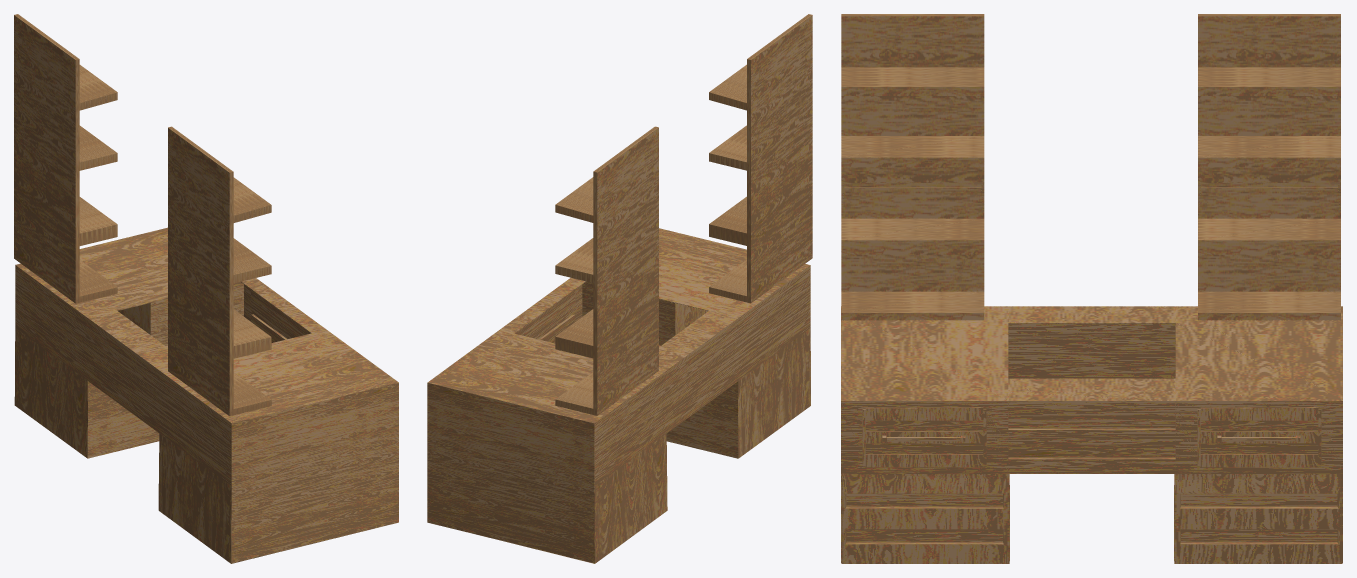
File: Regalon.fbx
3 views of the same model, side by side, from view 1: azimuth 30°, elevation 25°; view 2: azimuth 150°, elevation 25°; view 3: azimuth 270°, elevation 25° (orthographic). The views are drawn at different scales.
Visible parts, largest first — view 1: Mueble, Cube.001, Cube.002; view 2: Mueble, Cube.002, Cube.001; view 3: Mueble, Cube.002, Cube.001, Cajon, Cajon.001.
Boxes of the visible parts, box(x1,y1,x2,y2) form: Mueble: box(14, 227, 398, 563); Cube.001: box(14, 14, 117, 303); Cube.002: box(168, 126, 271, 416); Mueble: box(427, 228, 810, 563); Cube.002: box(709, 14, 812, 303); Cube.001: box(555, 126, 658, 415); Mueble: box(841, 306, 1342, 563); Cube.002: box(841, 14, 984, 320); Cube.001: box(1198, 14, 1340, 320); Cajon: box(1197, 407, 1321, 467); Cajon.001: box(862, 407, 986, 467).
Bounding box in the file's own units: 261 × 559 × 560.
